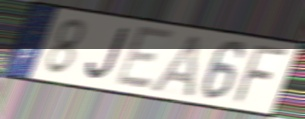6: (200, 38, 247, 102)
8: (42, 17, 87, 77)
A: (146, 32, 204, 100)
E: (112, 23, 177, 91)
F: (229, 44, 294, 106)
J: (83, 25, 131, 82)
